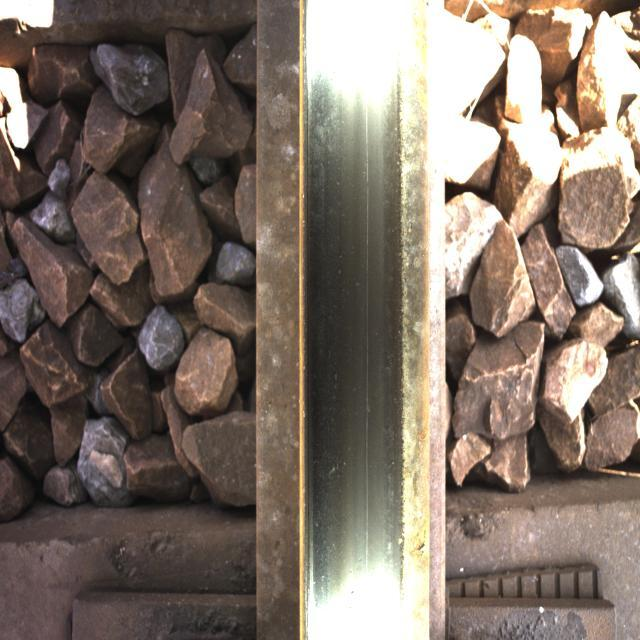break: (308, 29, 402, 608)
